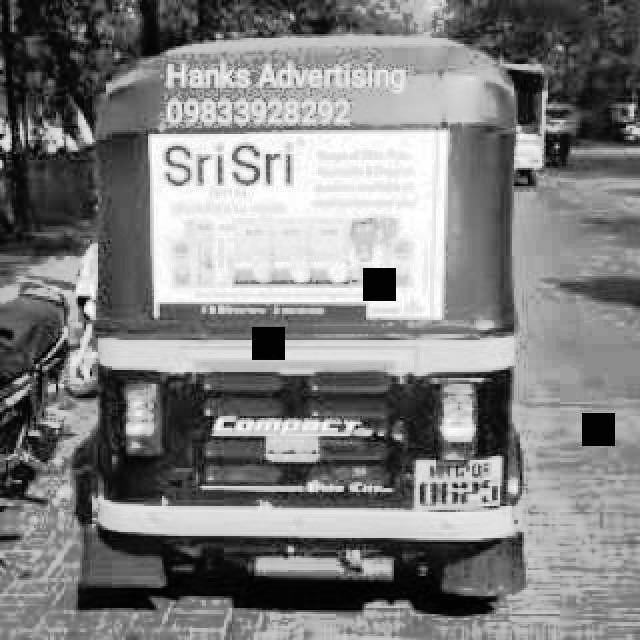Auto-Rickshaw: (92, 48, 520, 622)
